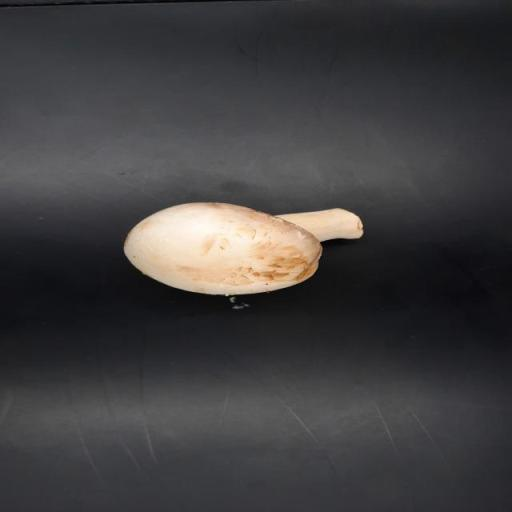mushroom: (123, 198, 365, 302)
